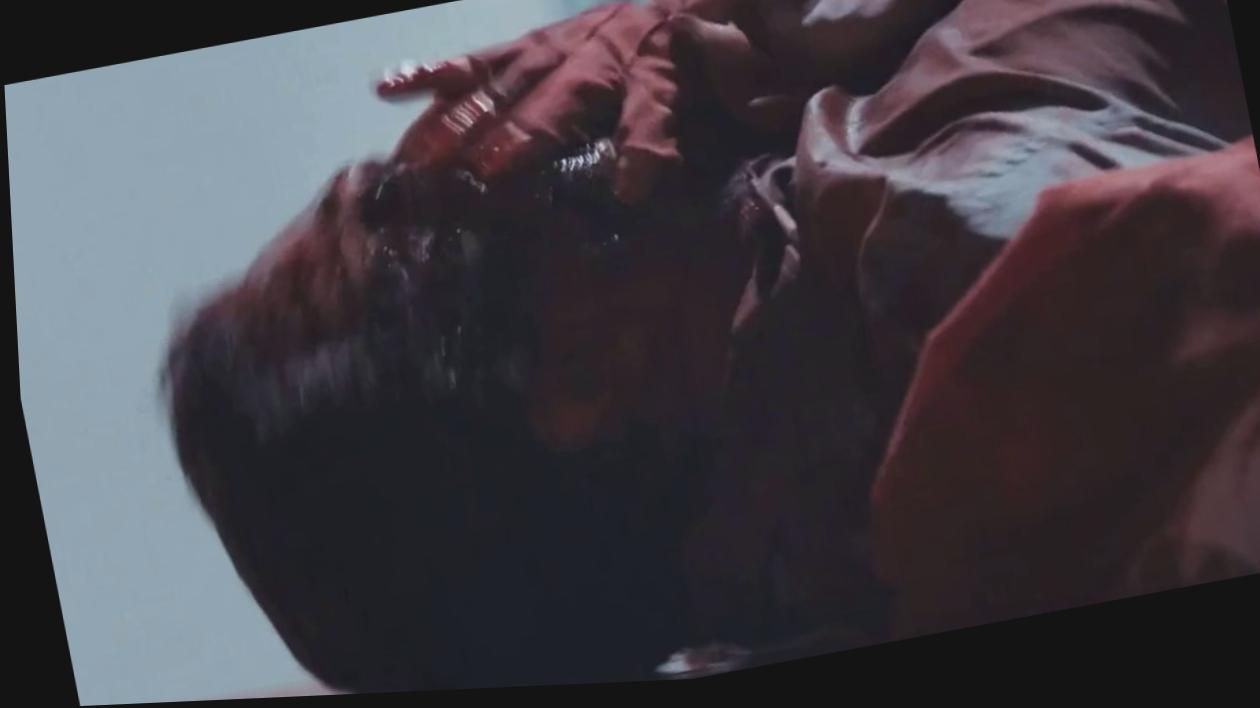Fire: (149, 0, 1260, 698)
